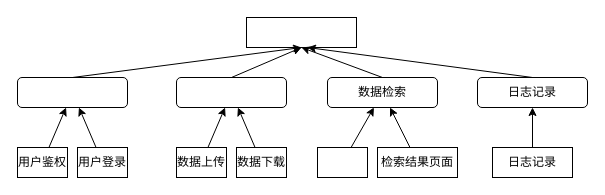
Some shapes in this 605 by 195 pixel diagram are drawn without their labels. The box of each missing label's shape, as (x1, y1, x2, y2) in pixels:
客户端: (246, 16, 356, 48)
数据管理: (176, 76, 286, 108)
检索页面: (316, 146, 368, 178)
用户管理: (16, 76, 128, 108)
